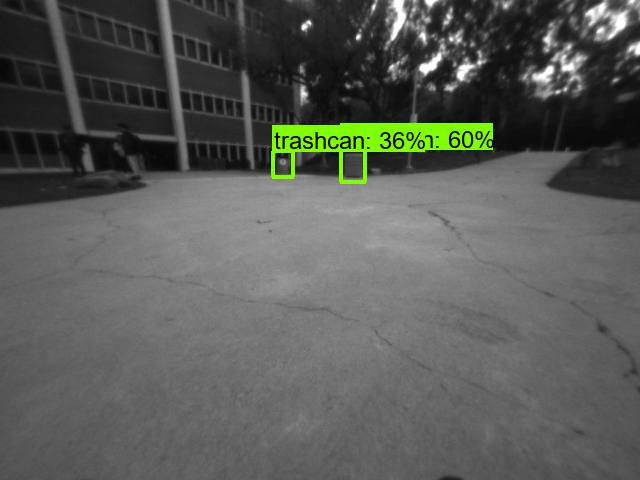trashcan: (341, 151, 366, 178), (275, 153, 294, 171)
